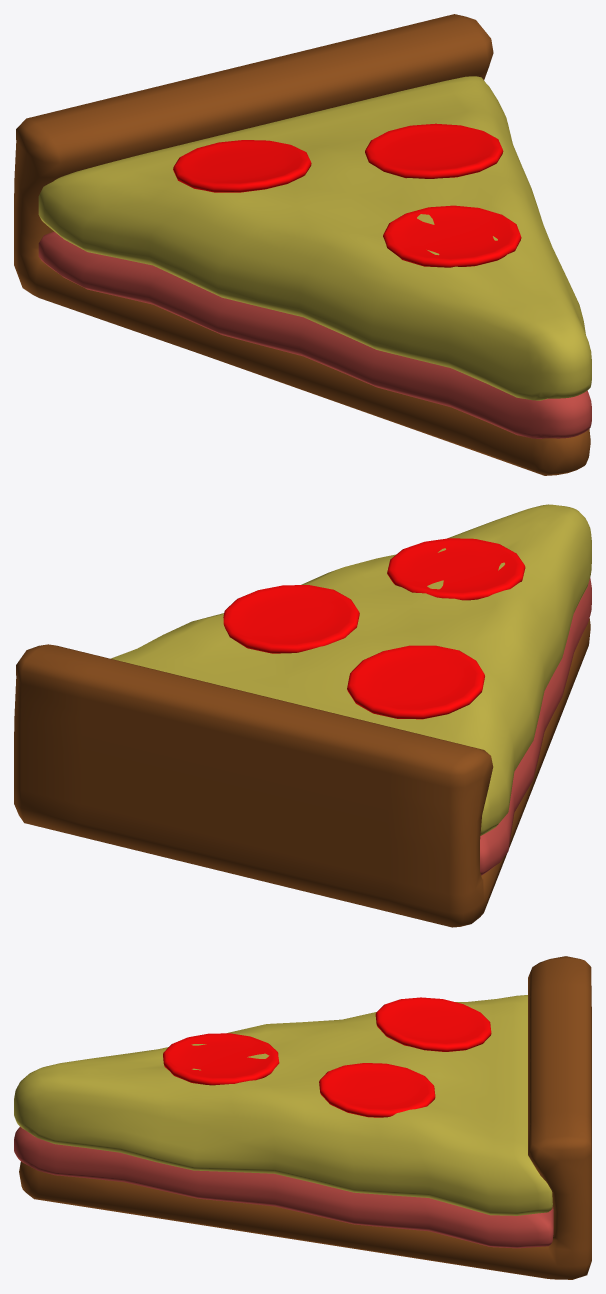
The model's file is Pizza.fbx.
3 renders of one model, top to bottom at view 1: azimuth 30°, elevation 25°; view 2: azimuth 150°, elevation 25°; view 3: azimuth 270°, elevation 25°, orthographic. The views are drawn at different scales.
Visible parts, largest first — view 1: Cheese, Crust, Sauce, pepperoni_1, pepperoni_2, pepperoni_3; view 2: Crust, Cheese, pepperoni_3, pepperoni_2, pepperoni_1, Sauce; view 3: Cheese, Crust, Sauce, pepperoni_2, pepperoni_3, pepperoni_1.
Boxes of the visible parts, box(x1,y1,x2,y2) form: Cheese: box(38, 76, 591, 400); Crust: box(14, 14, 590, 475); Sauce: box(38, 231, 591, 438); pepperoni_1: box(383, 205, 521, 267); pepperoni_2: box(365, 123, 503, 178); pepperoni_3: box(173, 140, 311, 192); Crust: box(14, 618, 590, 927); Cheese: box(111, 504, 591, 835); pepperoni_3: box(347, 645, 484, 719); pepperoni_2: box(223, 585, 359, 653); pepperoni_1: box(387, 538, 525, 600); Sauce: box(480, 577, 591, 875); Cheese: box(14, 995, 552, 1215); Crust: box(19, 956, 591, 1279); Sauce: box(14, 1127, 553, 1248); pepperoni_2: box(319, 1063, 435, 1117); pepperoni_3: box(375, 997, 491, 1051); pepperoni_1: box(163, 1033, 279, 1085).
Size of the model in its own units: 1.08 by 0.3817 by 1.39.
